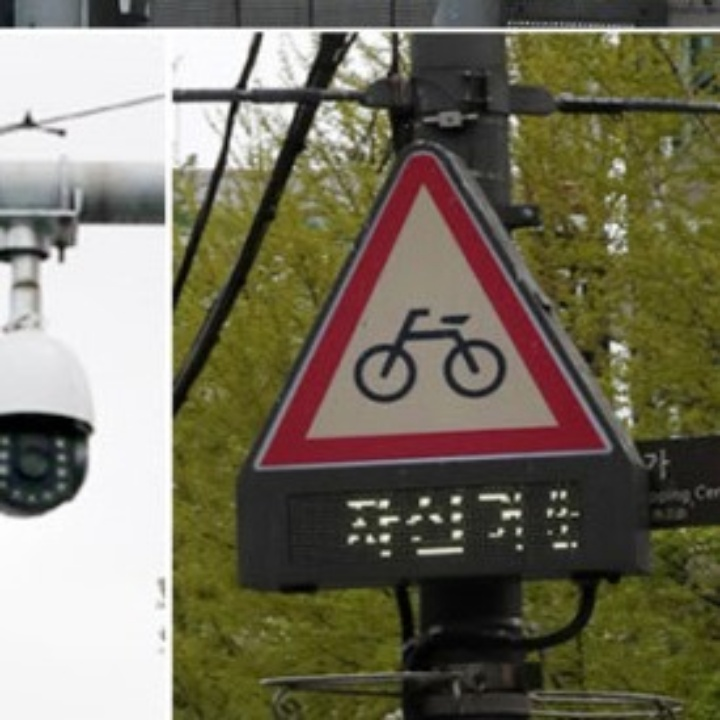bicycle: (254, 146, 608, 458)
